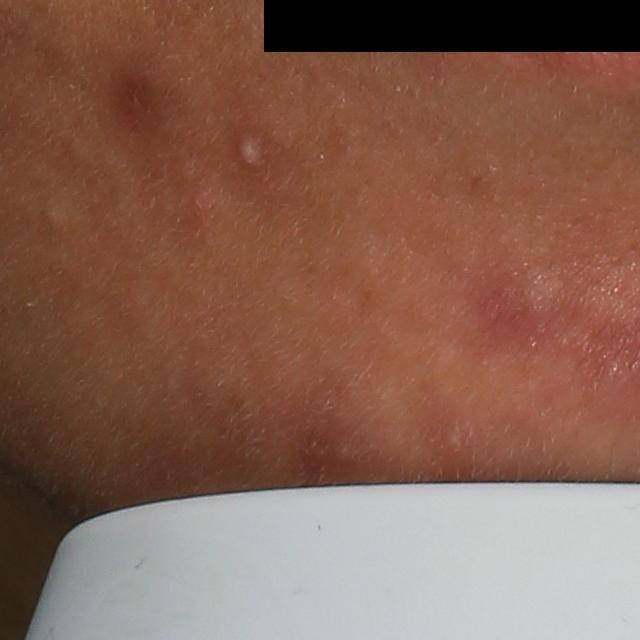comedo: (39, 202, 67, 233)
hypertrophic_scar: (518, 265, 567, 330)
pustule: (233, 119, 274, 176)
